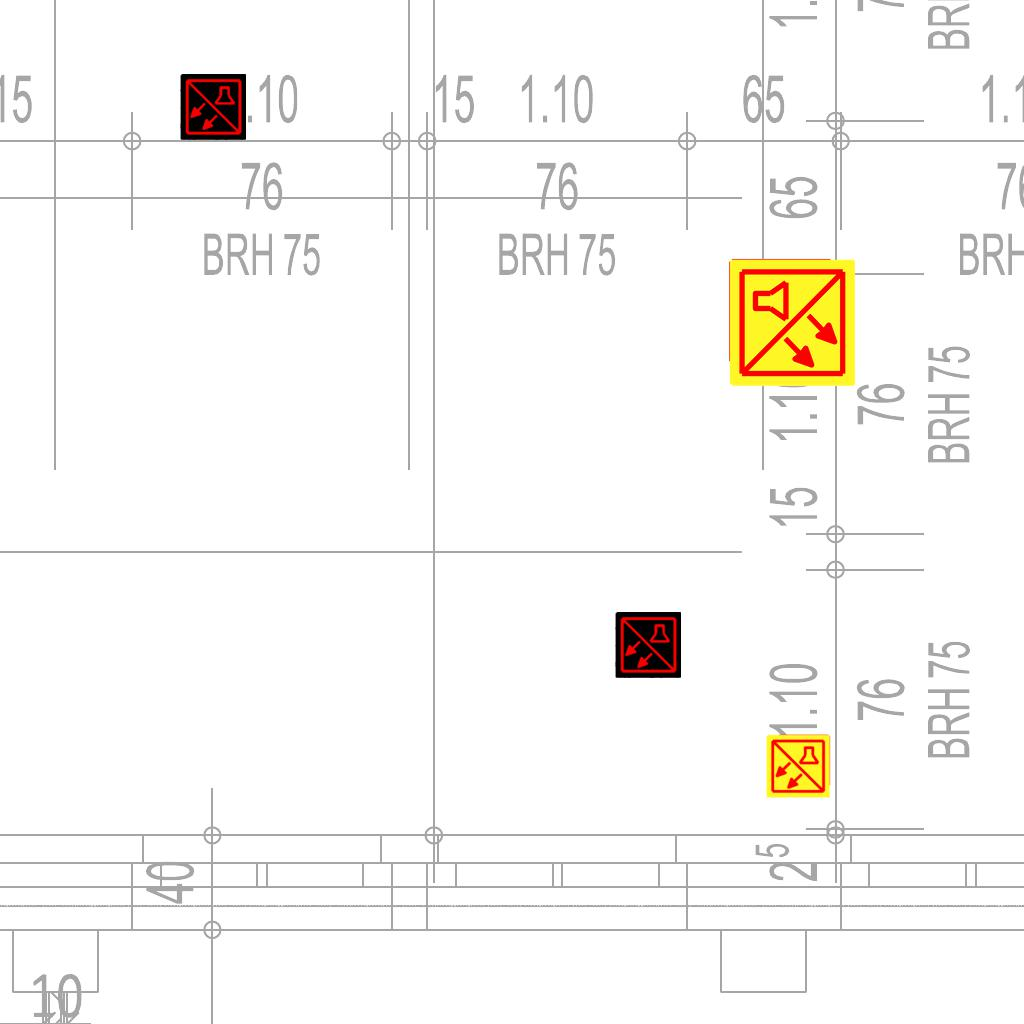OKW_Multisensormelder_(Kombination_optischer_Rauch-Kahlenmonoxid_Waerme-Melder): (726, 257, 858, 389), (615, 612, 681, 678), (765, 733, 831, 799), (180, 74, 246, 140)
